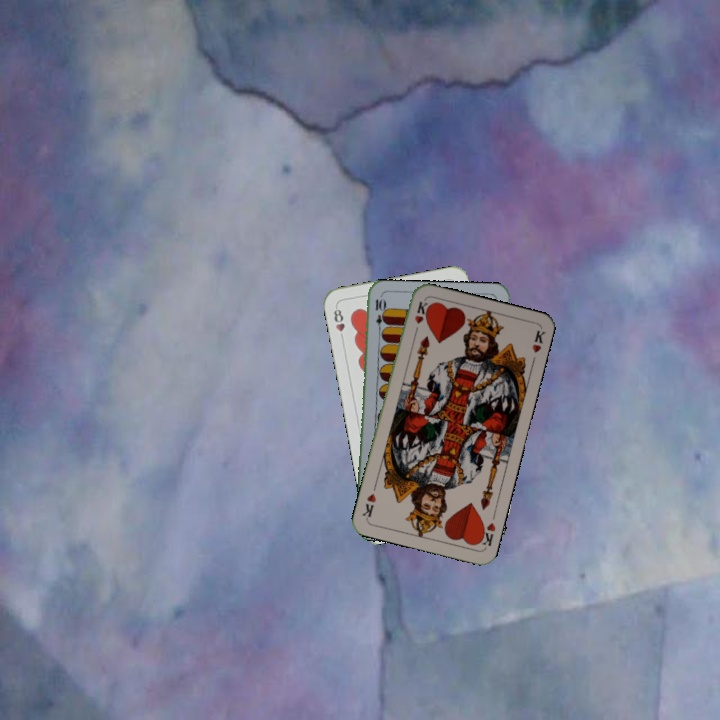E10: (371, 295, 385, 335)
H8: (330, 302, 347, 343)
HK: (410, 297, 430, 337), (474, 519, 498, 550)
